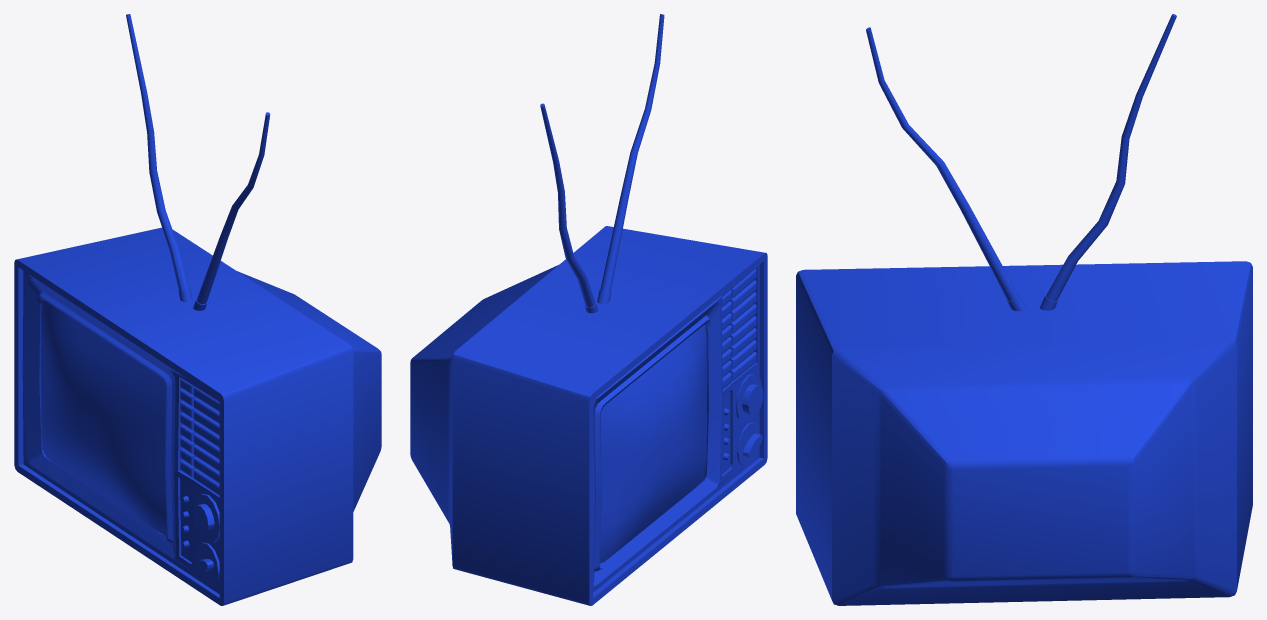
Rendered from TV_exit.exe.fbx.
The picture shows the model from 3 angles, left to right: view 1: azimuth 30°, elevation 25°; view 2: azimuth 150°, elevation 25°; view 3: azimuth 270°, elevation 25°; orthographic projection. The views are drawn at different scales.
Parts seen in each view (by area): view 1: Cube, Cube.046, Cube.069, Cylinder.008, Cylinder.087, Cylinder.088; view 2: Cube, Cube.046, Cube.069, Cylinder.008, Cylinder.087, Cylinder.088; view 3: Cube, Cylinder.008.
Part boxes in pixels (box(x1,y1,x2,y2)): Cube: box(14, 227, 381, 605); Cube.046: box(41, 300, 166, 535); Cube.069: box(22, 271, 219, 593); Cylinder.008: box(126, 14, 270, 310); Cylinder.087: box(193, 493, 219, 542); Cylinder.088: box(193, 542, 219, 586); Cube: box(410, 226, 767, 605); Cube.046: box(599, 324, 706, 562); Cube.069: box(593, 264, 759, 592); Cylinder.008: box(540, 14, 664, 313); Cylinder.087: box(735, 373, 763, 422); Cylinder.088: box(737, 422, 762, 466); Cube: box(796, 261, 1252, 605); Cylinder.008: box(866, 14, 1176, 311).
Bounding box in the file's own units: 65.02 × 118 × 89.88.
